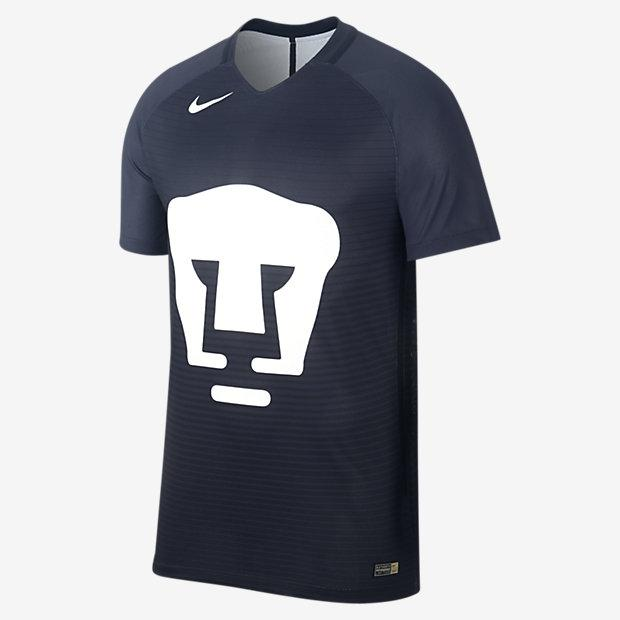teeshirt: (100, 9, 542, 620)
